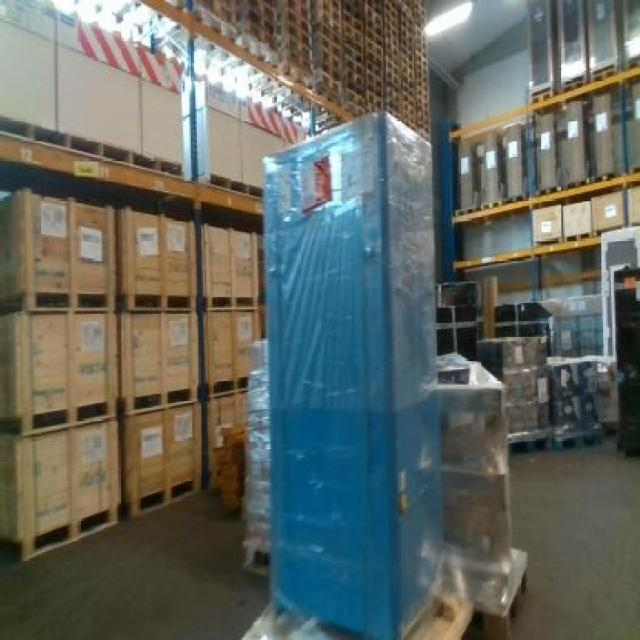pallets: (0, 188, 258, 555), (263, 111, 438, 637)
